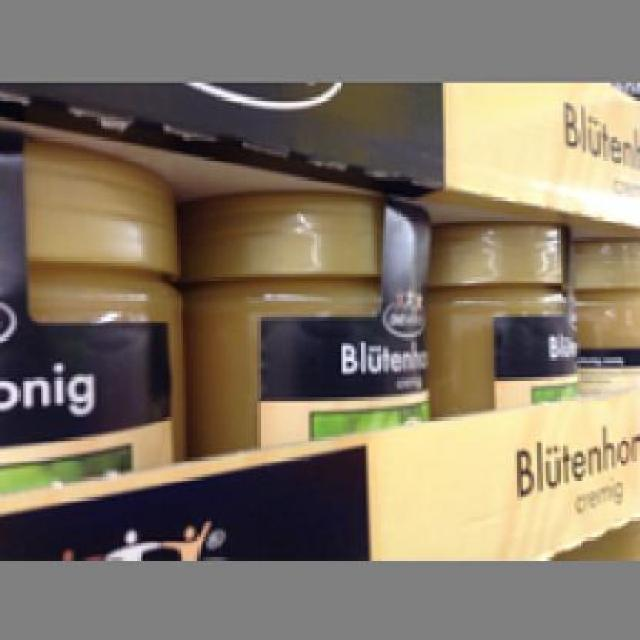Honey: (0, 126, 189, 500), (185, 192, 428, 472), (431, 217, 580, 406)
